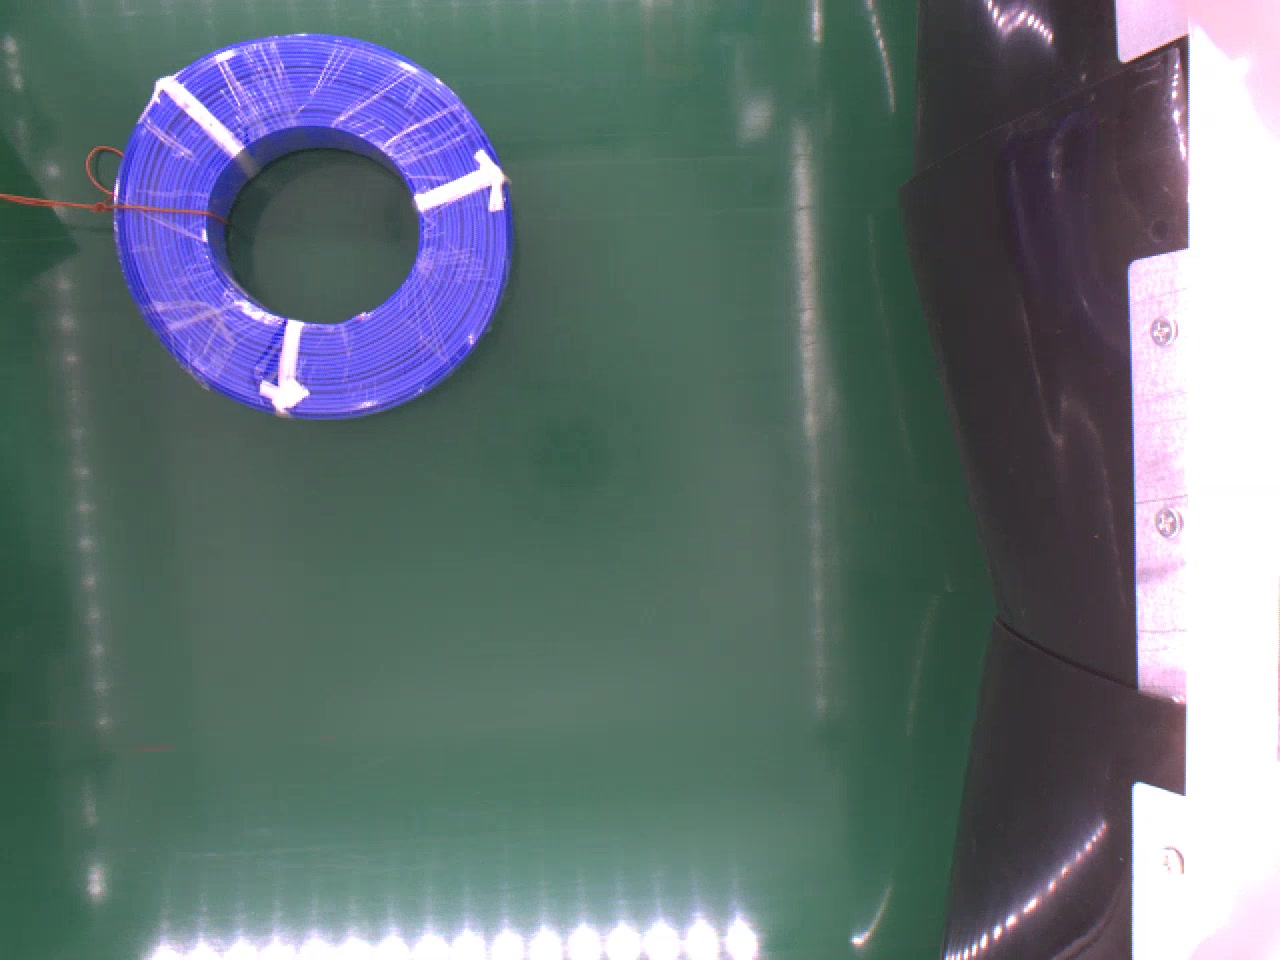blue: (114, 28, 513, 419)
